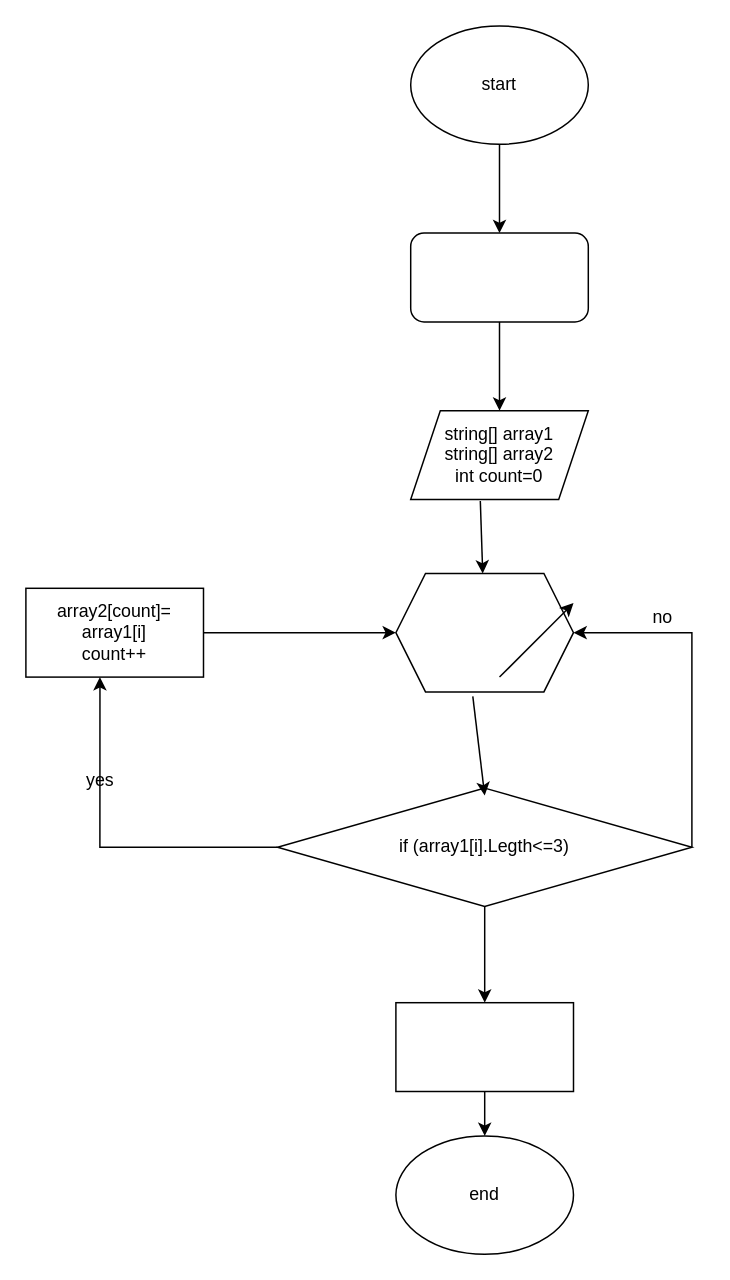
The diagram is 730 pixels wide and 1280 high, and some of its shapes have lost their labels. The shapes that lost their labels are listed below. From the top down, each one's box as (x1, y1, x2, y2) in pixels, then its label:
(409, 232, 588, 322): secondArray
(394, 572, 574, 692): for(int i = 0; i< array1.Length; i++)
(394, 1001, 574, 1092): print
